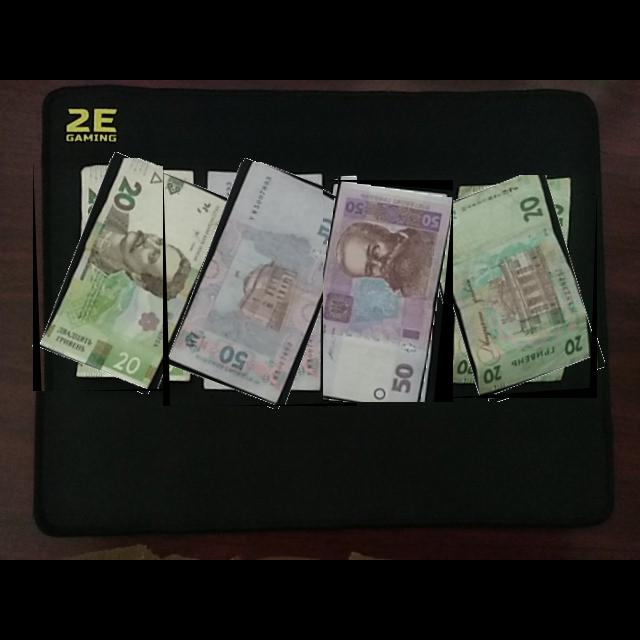20uah: (39, 158, 229, 390), (432, 175, 593, 397)
50uah: (168, 162, 358, 405), (323, 181, 453, 403)
